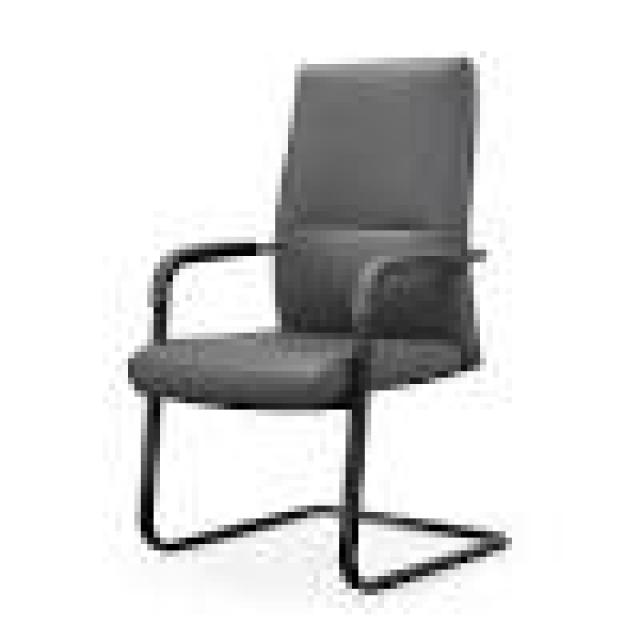chair: (68, 33, 556, 627)
